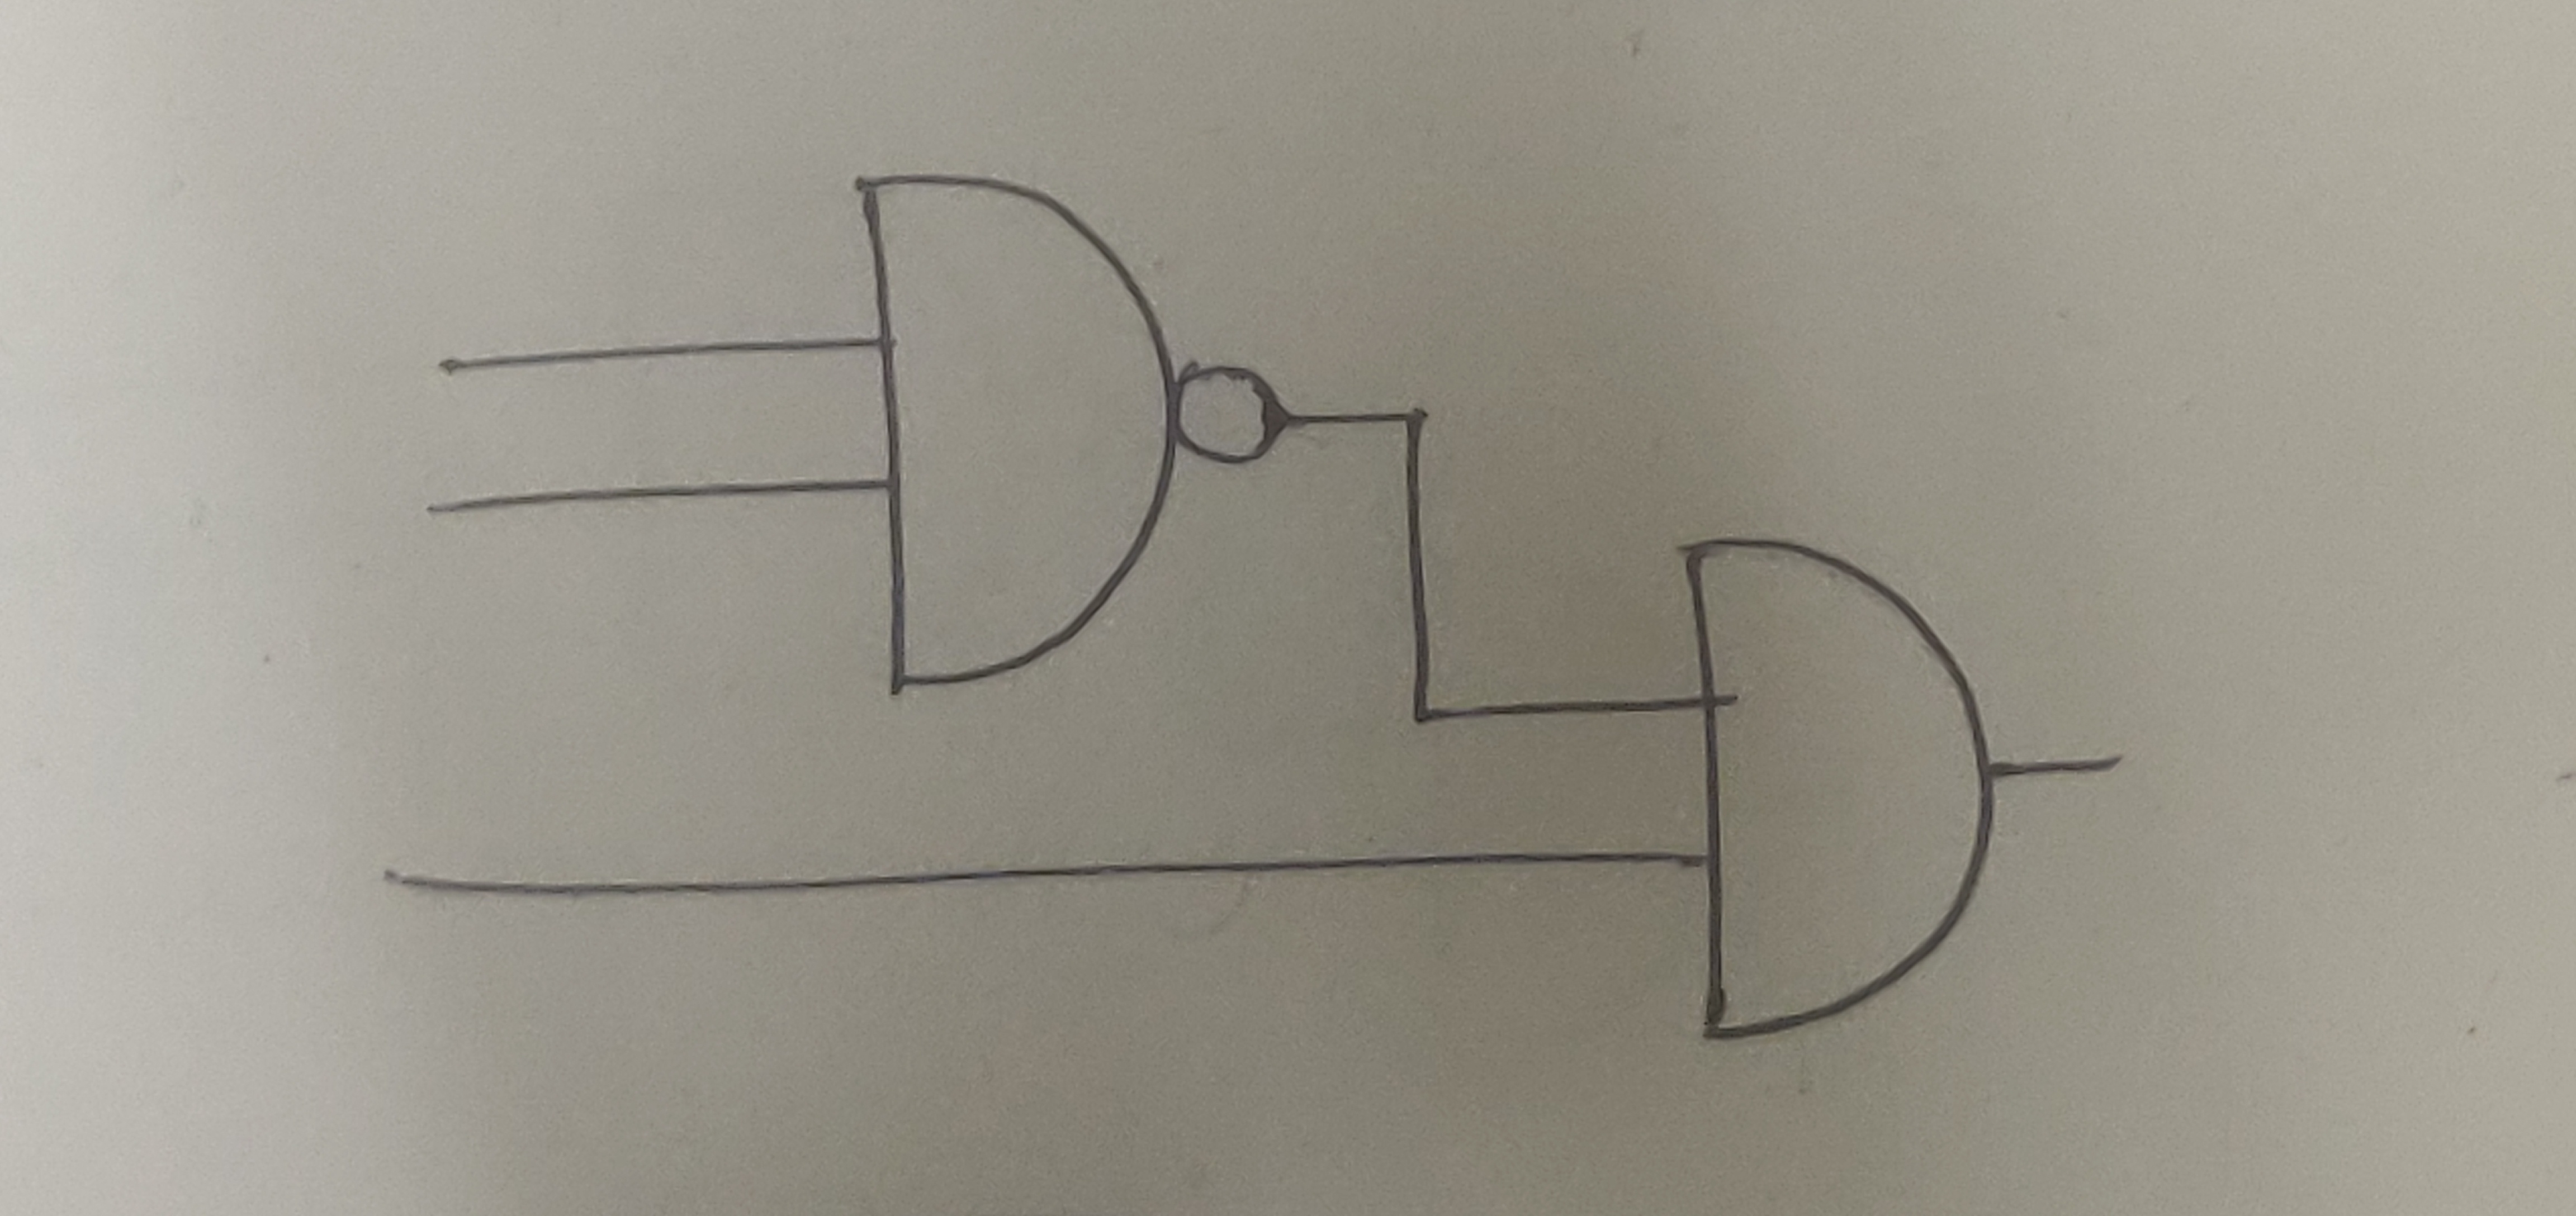and: (858, 168, 1183, 703), (1679, 532, 2008, 1048)
not: (1170, 355, 1288, 477)
